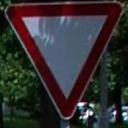preferencia: (1, 0, 128, 125)
